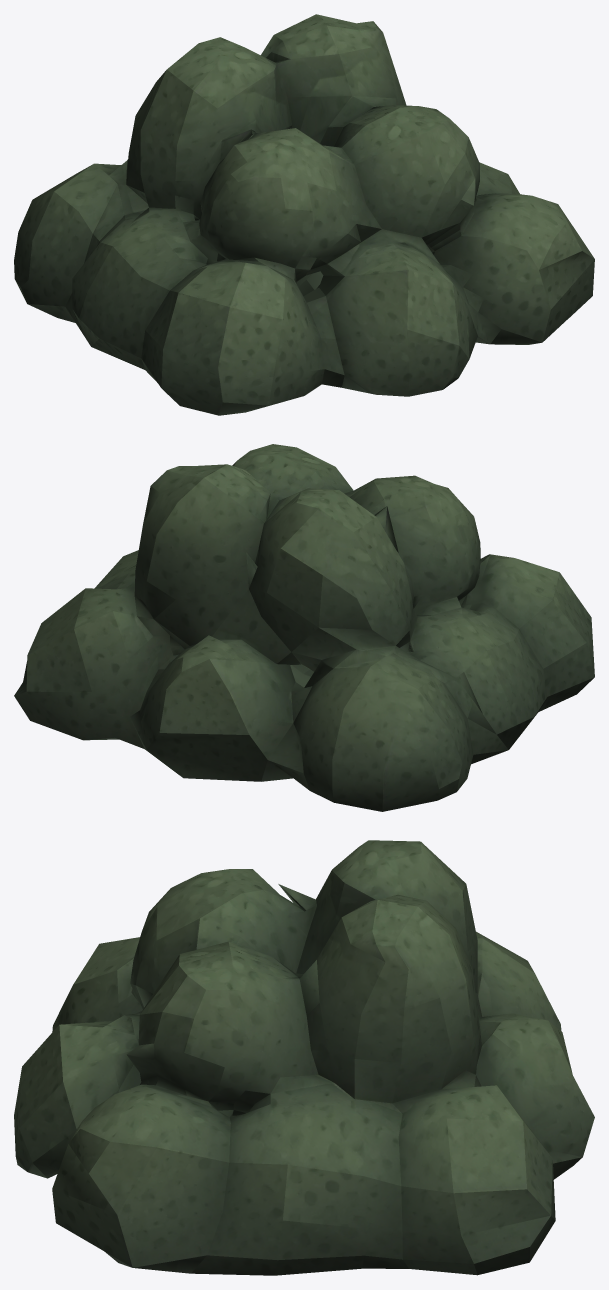
Rendered from wh-bush-a.glb.
3 views of the same model, one above another, from view 1: azimuth 30°, elevation 25°; view 2: azimuth 150°, elevation 25°; view 3: azimuth 270°, elevation 25° (orthographic). The views are drawn at different scales.
Size of the model in its own units: 1.78 by 0.9615 by 1.74.
Materials: 1 (1 with a texture image).
